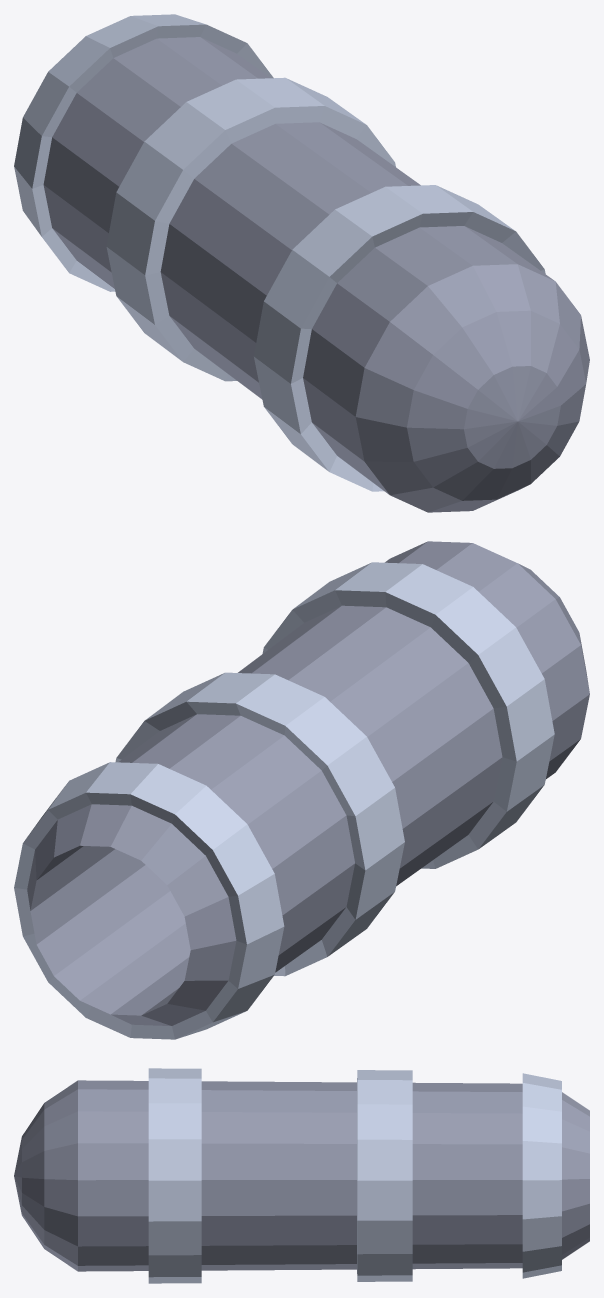
File: rocketlauncher_tube2.fbx
3 renders of one model, top to bottom at view 1: azimuth 30°, elevation 25°; view 2: azimuth 150°, elevation 25°; view 3: azimuth 270°, elevation 25°, orthographic. The views are drawn at different scales.
Visible parts, largest first — view 1: tube; view 2: tube; view 3: tube.
Part boxes in pixels (x1,y1,x2,y2): tube: (14, 14, 589, 512); tube: (14, 541, 589, 1039); tube: (14, 1068, 589, 1283).
Size of the model in its own units: 13.93 by 13.93 by 37.26.
